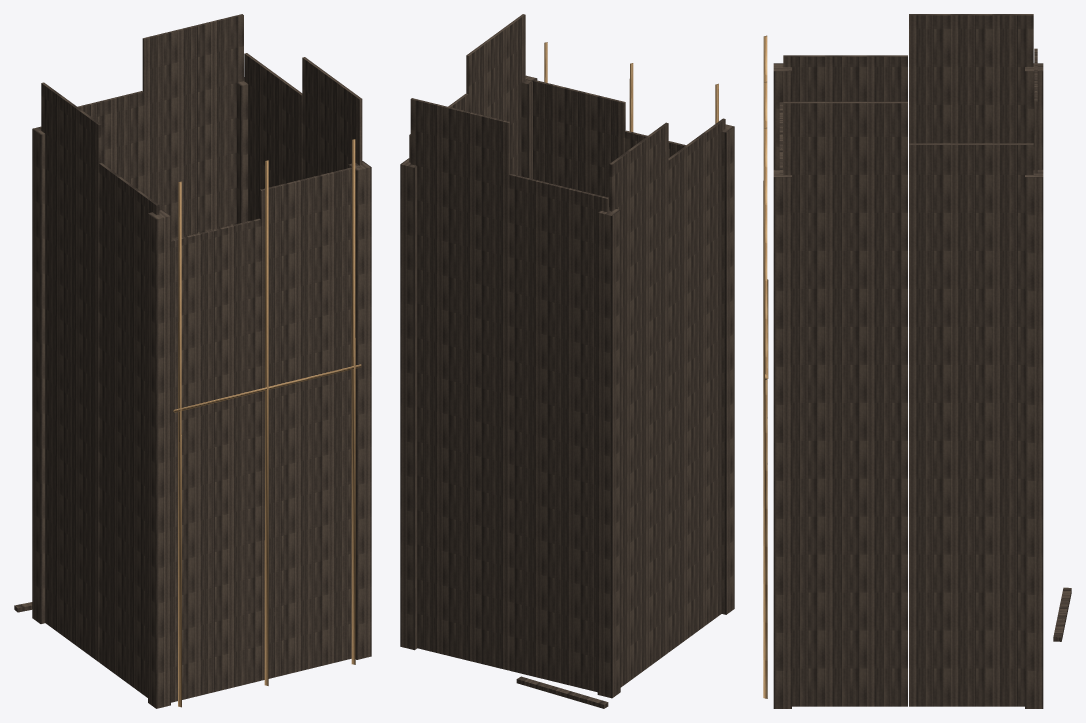
The model's file is Tower_Rampart_Wood_Ruined_1_LOD2.gltf.
3 renders of one model, left to right at view 1: azimuth 30°, elevation 25°; view 2: azimuth 150°, elevation 25°; view 3: azimuth 270°, elevation 25°, orthographic. The views are drawn at different scales.
Parts seen in each view (by area): view 1: Tower_Rampart_Wood_Ruined_1_LOD2; view 2: Tower_Rampart_Wood_Ruined_1_LOD2; view 3: Tower_Rampart_Wood_Ruined_1_LOD2.
Boxes of the visible parts, x1=… form: Tower_Rampart_Wood_Ruined_1_LOD2: x1=14, y1=14, x2=371, y2=708; Tower_Rampart_Wood_Ruined_1_LOD2: x1=400, y1=14, x2=734, y2=708; Tower_Rampart_Wood_Ruined_1_LOD2: x1=763, y1=14, x2=1071, y2=708.
Bounding box in the file's own units: 6.6 × 15.89 × 7.37.
2 materials, 2 textured.
